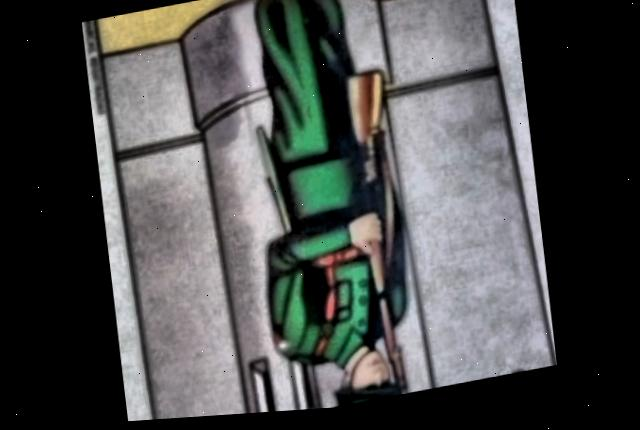El Soldado: (92, 0, 553, 422)
